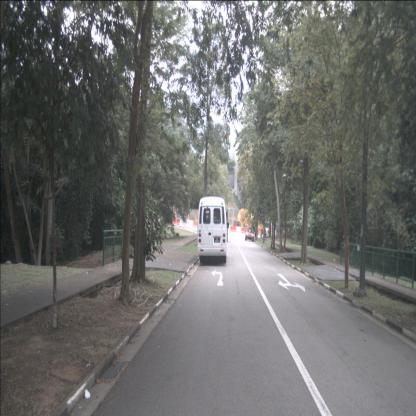barrier: (242, 226, 249, 234), (180, 219, 188, 226), (172, 218, 180, 225), (187, 220, 194, 226), (236, 226, 242, 233), (230, 226, 237, 232), (256, 228, 262, 234), (193, 221, 199, 226)
